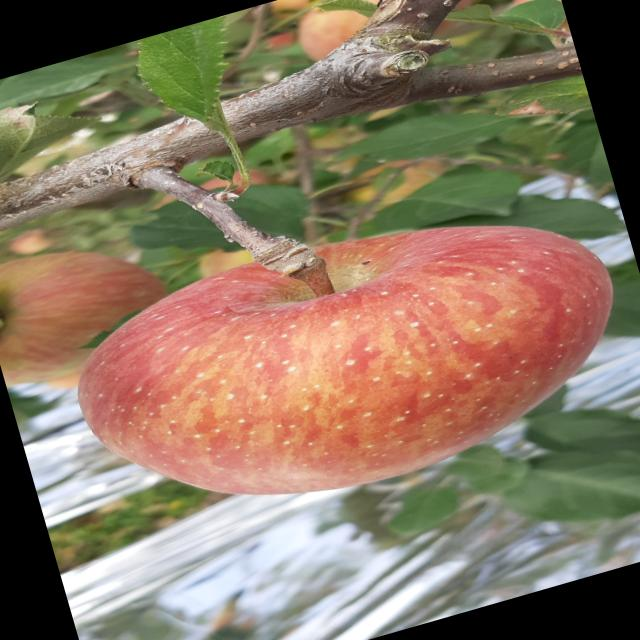fresh: (45, 158, 640, 565)
